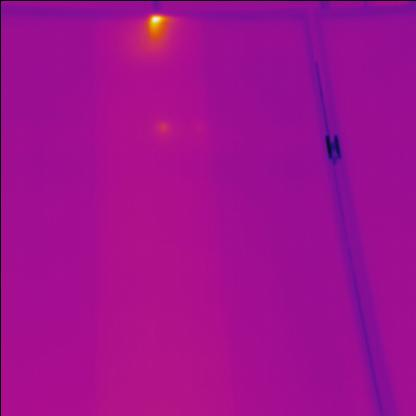hotspot: (137, 11, 172, 45)
